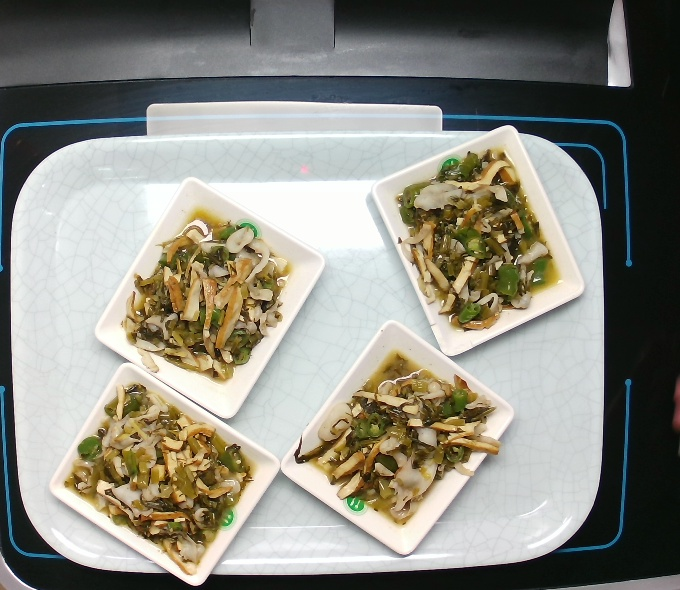wcq-YouYuXueCaiDouGan: (60, 381, 256, 567), (296, 354, 502, 520), (119, 207, 293, 385), (385, 155, 559, 333)
